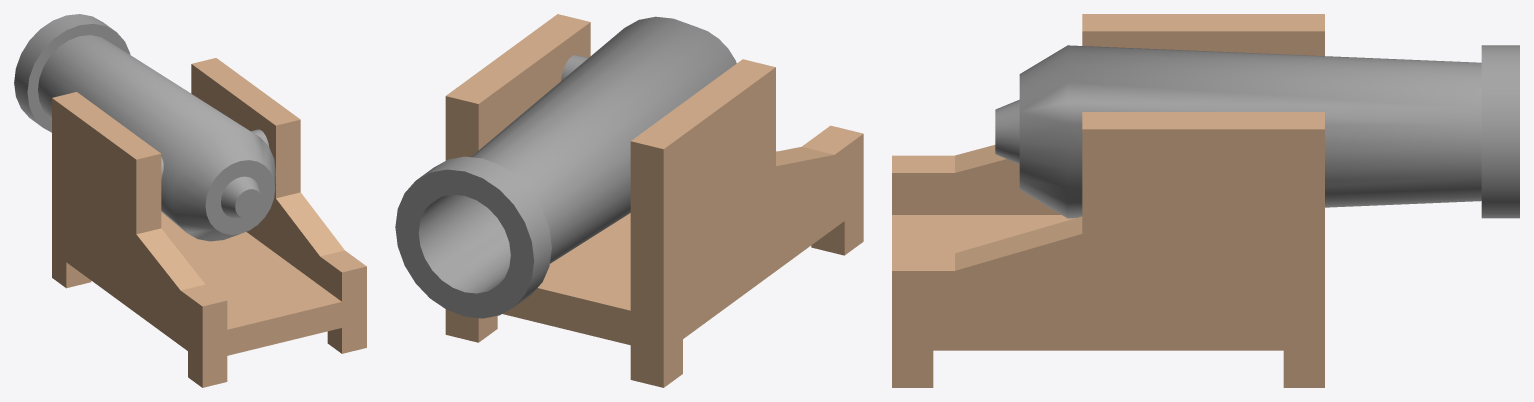
File: canon_lourd.glb
3 renders of one model, left to right at view 1: azimuth 30°, elevation 25°; view 2: azimuth 150°, elevation 25°; view 3: azimuth 270°, elevation 25°, orthographic. The views are drawn at different scales.
Visible parts, largest first — view 1: canon_lourd_assimp; view 2: canon_lourd_assimp; view 3: canon_lourd_assimp.
Part boxes in pixels (x1,y1,x2,y2): canon_lourd_assimp: (14, 14, 366, 387); canon_lourd_assimp: (395, 14, 863, 387); canon_lourd_assimp: (892, 14, 1519, 387).
Size of the model in its own units: 4.34 by 4.87 by 9.99.
